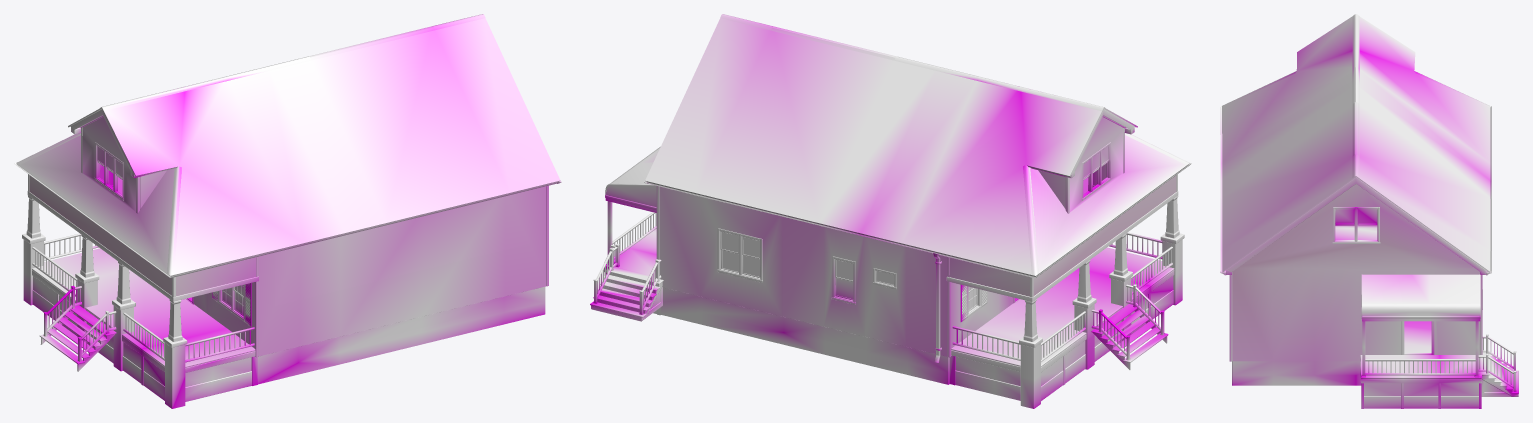
Rendered from SM_House_01.fbx.
3 views of the same model, side by side, from view 1: azimuth 30°, elevation 25°; view 2: azimuth 150°, elevation 25°; view 3: azimuth 270°, elevation 25° (orthographic). The views are drawn at different scales.
Visible parts, largest first — view 1: SM_House_01_LOD0; view 2: SM_House_01_LOD0; view 3: SM_House_01_LOD0.
Part boxes in pixels (x1,y1,x2,y2): SM_House_01_LOD0: (14,14,561,408); SM_House_01_LOD0: (590,14,1191,408); SM_House_01_LOD0: (1220,14,1518,408).
Bounding box in the file's own units: 1605 × 800 × 1012.
